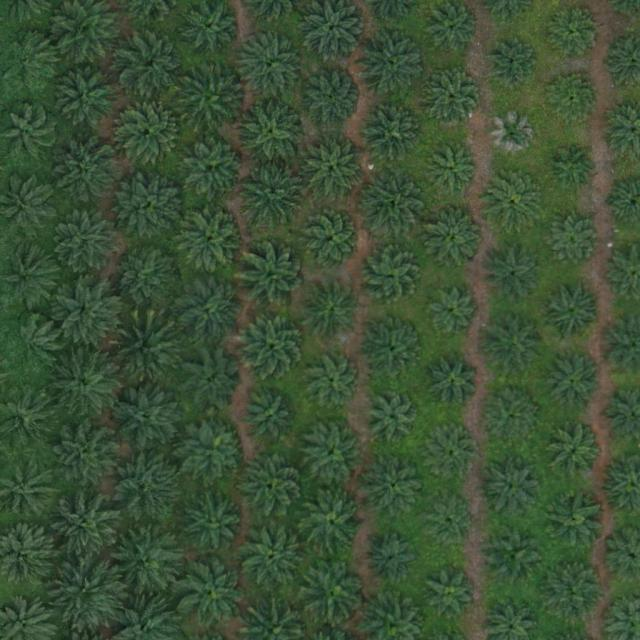Dead: (491, 113, 538, 160)
Healthy: (236, 98, 307, 169), (241, 160, 312, 231), (237, 242, 308, 313), (110, 450, 181, 521), (52, 207, 123, 277), (179, 63, 249, 134), (235, 31, 305, 102), (358, 29, 428, 100), (358, 170, 428, 241), (239, 311, 309, 382), (112, 244, 182, 315), (111, 316, 181, 387), (52, 491, 122, 562), (114, 525, 184, 596), (179, 559, 249, 630), (238, 521, 308, 592), (53, 64, 123, 134), (118, 32, 188, 102), (117, 172, 187, 242), (113, 382, 183, 452), (54, 278, 124, 348), (48, 349, 118, 419), (52, 422, 122, 492), (53, 558, 123, 628), (119, 101, 182, 164), (485, 170, 548, 233), (540, 211, 603, 274), (540, 279, 603, 342), (182, 351, 245, 414), (58, 141, 120, 204), (183, 137, 245, 200), (362, 102, 424, 165), (543, 489, 605, 552), (482, 242, 544, 305), (484, 314, 546, 377), (480, 456, 543, 518), (424, 207, 487, 269), (361, 245, 423, 308), (365, 455, 427, 518), (301, 279, 363, 342), (302, 422, 364, 485), (302, 495, 364, 558), (242, 456, 304, 519), (179, 209, 241, 272), (177, 279, 239, 342), (183, 420, 245, 483), (181, 491, 243, 554), (302, 560, 365, 622), (484, 525, 546, 588), (543, 558, 605, 621), (302, 67, 364, 129), (303, 140, 365, 202), (364, 318, 426, 380), (301, 209, 363, 271), (3, 34, 58, 89), (548, 9, 603, 64), (546, 73, 601, 128), (485, 394, 540, 449), (426, 288, 481, 343), (244, 390, 299, 445), (4, 318, 59, 373), (425, 4, 479, 59), (427, 73, 481, 128), (546, 357, 600, 412), (548, 426, 602, 481), (368, 389, 422, 444), (307, 354, 361, 409), (431, 146, 478, 194), (432, 360, 479, 408), (370, 536, 417, 584), (429, 569, 476, 617), (489, 42, 536, 89), (431, 430, 478, 477), (426, 502, 473, 549)
Small: (546, 140, 601, 195)
